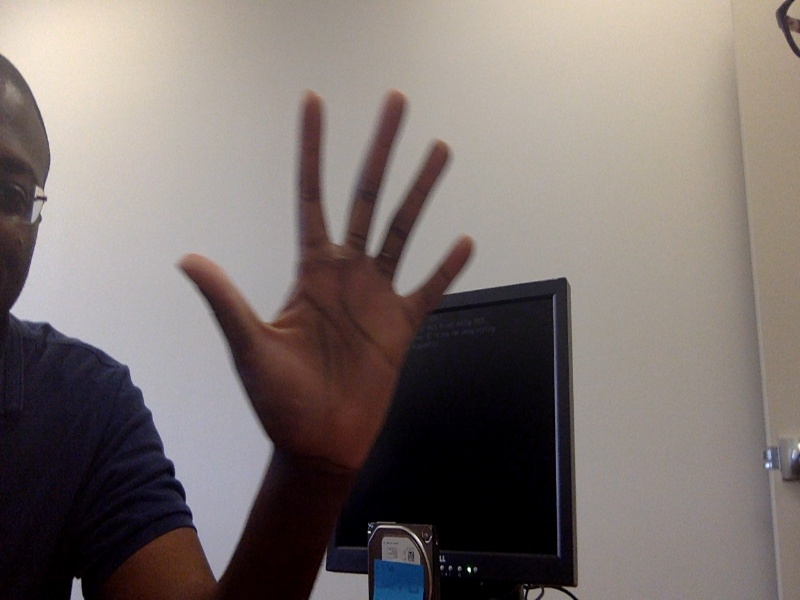5-hand: (177, 86, 477, 481)
